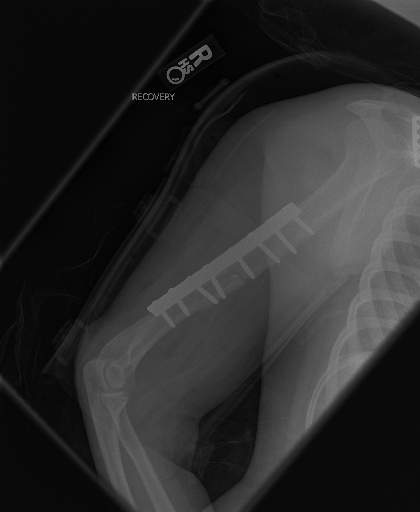implant: (149, 202, 317, 330)
